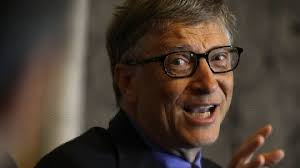Glasses: (127, 49, 253, 85)
